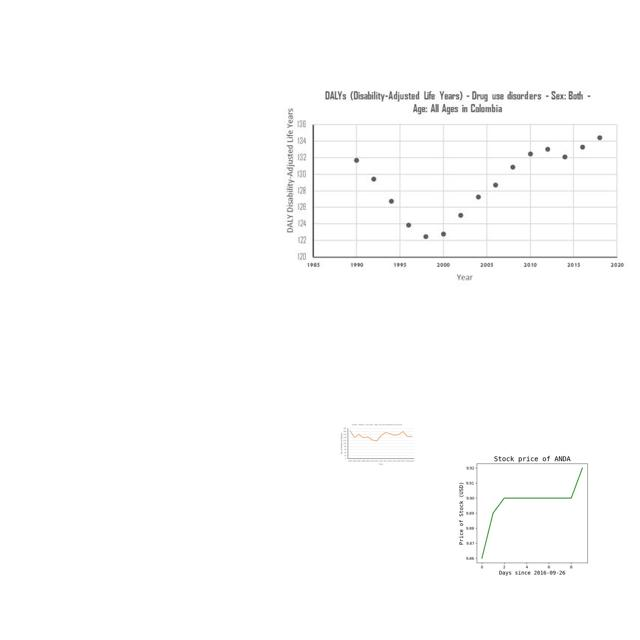Graph: (277, 84, 629, 287), (444, 448, 616, 577), (338, 422, 415, 466)
